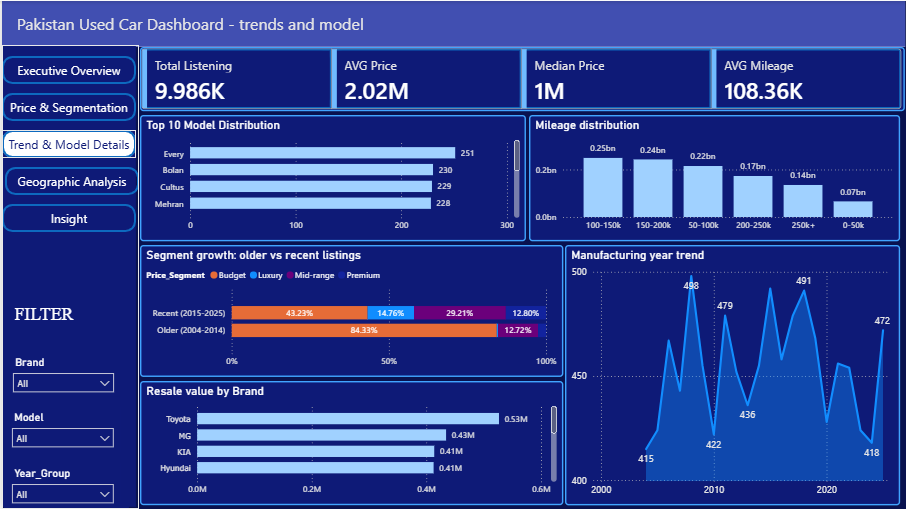

This screenshot's page, from the dashboard's own definition file:
{"tool":"powerbi","page":{"name":"trends and model details","canvas":[1280,720],"ordinal":2},"visuals":[{"type":"shape","box":[0,0,1280.2,64.8],"z":0,"group":"g1"},{"type":"shape","box":[0,62.9,189.7,654.5],"z":0,"group":"g2"},{"type":"cardVisual","fields":{"Data":["CountNonNull(Car_Dataset.Ad_ID)","Avg(Car_Dataset.Price_PKR)","Median(Car_Dataset.Price_PKR)1","Avg(Car_Dataset.Mileage_km)"]},"box":[195.6,65.2,1084.3,90.7],"z":0},{"type":"clusteredBarChart","title":"Top 10 Model Distribution","fields":{"Y":["CountNonNull(Car_Dataset.Ad_ID)"],"Category":["Car_Dataset.Model"]},"box":[195.6,161.6,547.1,178.6],"z":1000},{"type":"shape","box":[2.4,339.6,177.3,380.4],"z":1000,"group":"g2"},{"type":"actionButton","box":[0,131,189.9,39.7],"z":2000,"group":"g2"},{"type":"clusteredBarChart","title":"Resale value by Brand","fields":{"Y":["Avg(Car_Dataset.Price_Per_Year_Age)"],"Category":["Car_Dataset.Brand"]},"box":[195.6,538.6,599.5,175.7],"z":2000},{"type":"clusteredColumnChart","title":"Mileage distribution","fields":{"Y":["Sum(Car_Dataset.Mileage_km)"],"Category":["Car_Dataset.Mileage_Bin"]},"box":[746.9,161.6,525.8,178.6],"z":3000},{"type":"slicer","fields":{"Values":["Car_Dataset.Brand"]},"box":[5.7,497.7,163,62.9],"z":3000,"group":"g2"},{"type":"actionButton","box":[0,183.2,189.9,39.7],"z":4000,"group":"g2"},{"type":"areaChart","title":"Manufacturing year trend","fields":{"Category":["Car_Dataset.Manufacturing_Year"],"Y":["CountNonNull(Car_Dataset.Ad_ID)"]},"box":[798,345.8,474.8,368.5],"z":4000},{"type":"hundredPercentStackedBarChart","title":"Segment growth: older vs recent listings","fields":{"Category":["Car_Dataset.Year_Group"],"Y":["CountNonNull(Car_Dataset.Ad_ID)"],"Series":["Car_Dataset.Price_Segment"]},"box":[195.6,345.8,599.5,187.1],"z":5000},{"type":"slicer","fields":{"Values":["Car_Dataset.Model"]},"box":[4.3,576.3,164.5,64.4],"z":5000,"group":"g2"},{"type":"group","id":"g1","title":"top bar","box":[0,0,1280.2,64.8],"z":6000},{"type":"actionButton","box":[4.3,235.5,189.9,39.7],"z":6000,"group":"g2"},{"type":"group","id":"g2","title":"Group 1","box":[0,62.9,194.5,656.4],"z":7000},{"type":"slicer","fields":{"Values":["Car_Dataset.Year_Group"]},"box":[4.3,655,164.5,62.9],"z":7000,"group":"g2"},{"type":"actionButton","box":[0,287.7,189.9,39.7],"z":8000,"group":"g2"},{"type":"actionButton","box":[0,78.7,189.9,39.7],"z":9000,"group":"g2"}]}

Visuals, with their boxes in screenshot pixels (x1, y1, x2, y2), scaled from the page's 1280x720 canvas onto the 906x509 screenshot:
shape: [x1=0, y1=0, x2=905, y2=46]
shape: [x1=0, y1=44, x2=134, y2=507]
cardVisual - CountNonNull(Car_Dataset.Ad_ID) x Avg(Car_Dataset.Price_PKR): [x1=138, y1=46, x2=905, y2=110]
"Top 10 Model Distribution" clusteredBarChart: [x1=138, y1=114, x2=526, y2=241]
shape: [x1=2, y1=240, x2=127, y2=508]
actionButton: [x1=0, y1=93, x2=134, y2=121]
"Resale value by Brand" clusteredBarChart: [x1=138, y1=381, x2=563, y2=505]
"Mileage distribution" clusteredColumnChart: [x1=529, y1=114, x2=901, y2=241]
slicer - Car_Dataset.Brand: [x1=4, y1=352, x2=119, y2=396]
actionButton: [x1=0, y1=130, x2=134, y2=158]
"Manufacturing year trend" areaChart: [x1=565, y1=244, x2=901, y2=505]
"Segment growth: older vs recent listings" hundredPercentStackedBarChart: [x1=138, y1=244, x2=563, y2=377]
slicer - Car_Dataset.Model: [x1=3, y1=407, x2=119, y2=453]
"top bar" group: [x1=0, y1=0, x2=905, y2=46]
actionButton: [x1=3, y1=166, x2=137, y2=195]
"Group 1" group: [x1=0, y1=44, x2=138, y2=508]
slicer - Car_Dataset.Year_Group: [x1=3, y1=463, x2=119, y2=508]
actionButton: [x1=0, y1=203, x2=134, y2=231]
actionButton: [x1=0, y1=56, x2=134, y2=84]
